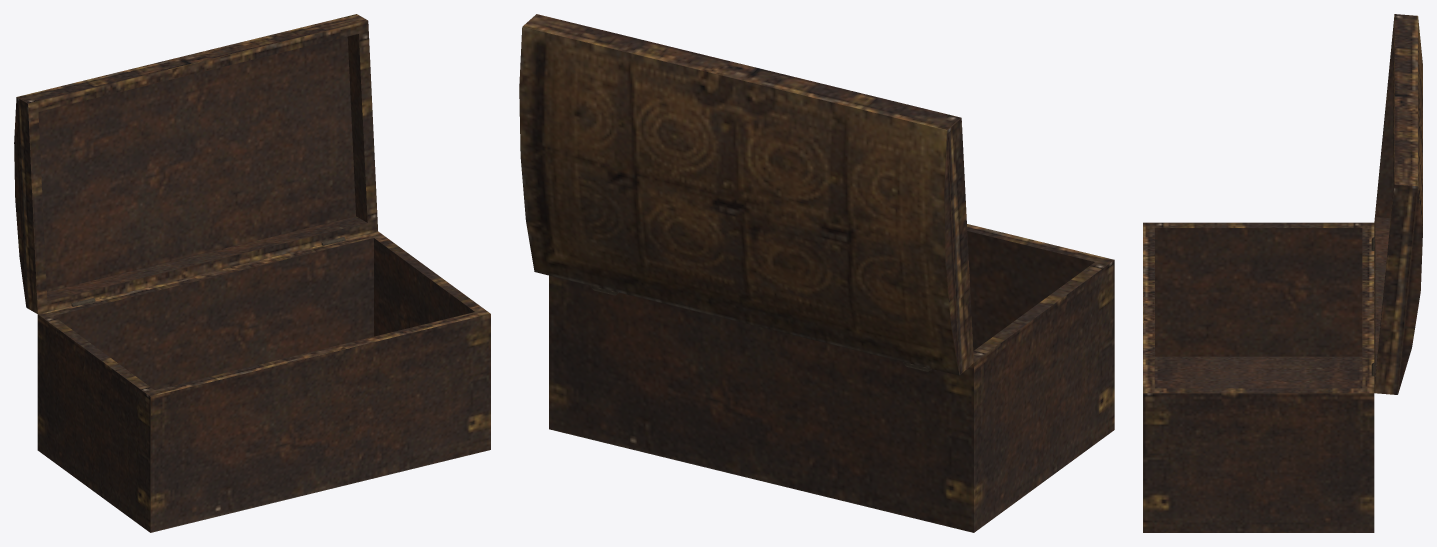
Rendered from wooden_crate_3.obj.
The picture shows the model from 3 angles, left to right: view 1: azimuth 30°, elevation 25°; view 2: azimuth 150°, elevation 25°; view 3: azimuth 270°, elevation 25°; orthographic projection. The views are drawn at different scales.
Visible parts, largest first — view 1: wooden_crate_3, wooden_crate_3_lid; view 2: wooden_crate_3_lid, wooden_crate_3; view 3: wooden_crate_3, wooden_crate_3_lid.
Boxes of the visible parts, bbox=[...] form: wooden_crate_3: bbox=[37, 231, 490, 532]; wooden_crate_3_lid: bbox=[14, 14, 377, 313]; wooden_crate_3_lid: bbox=[519, 14, 973, 375]; wooden_crate_3: bbox=[549, 224, 1114, 532]; wooden_crate_3: bbox=[1143, 222, 1374, 532]; wooden_crate_3_lid: bbox=[1374, 14, 1422, 394].
Size of the model in its own units: 0.68 by 0.6485 by 0.472.
